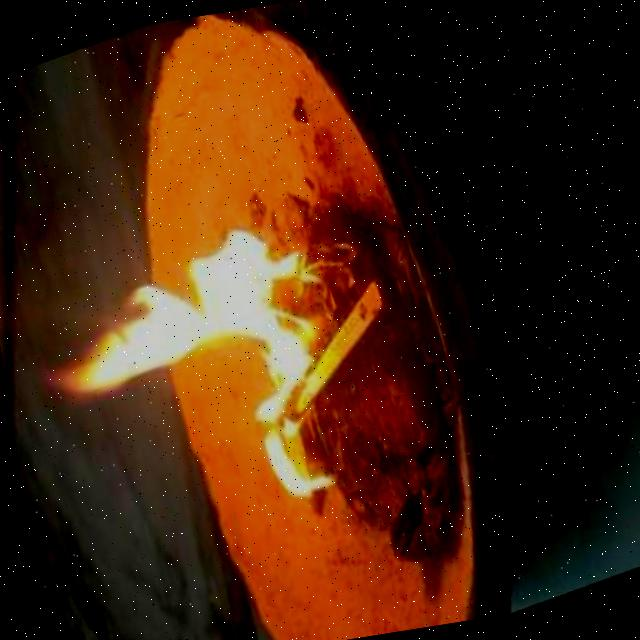fire: (38, 210, 354, 553)
